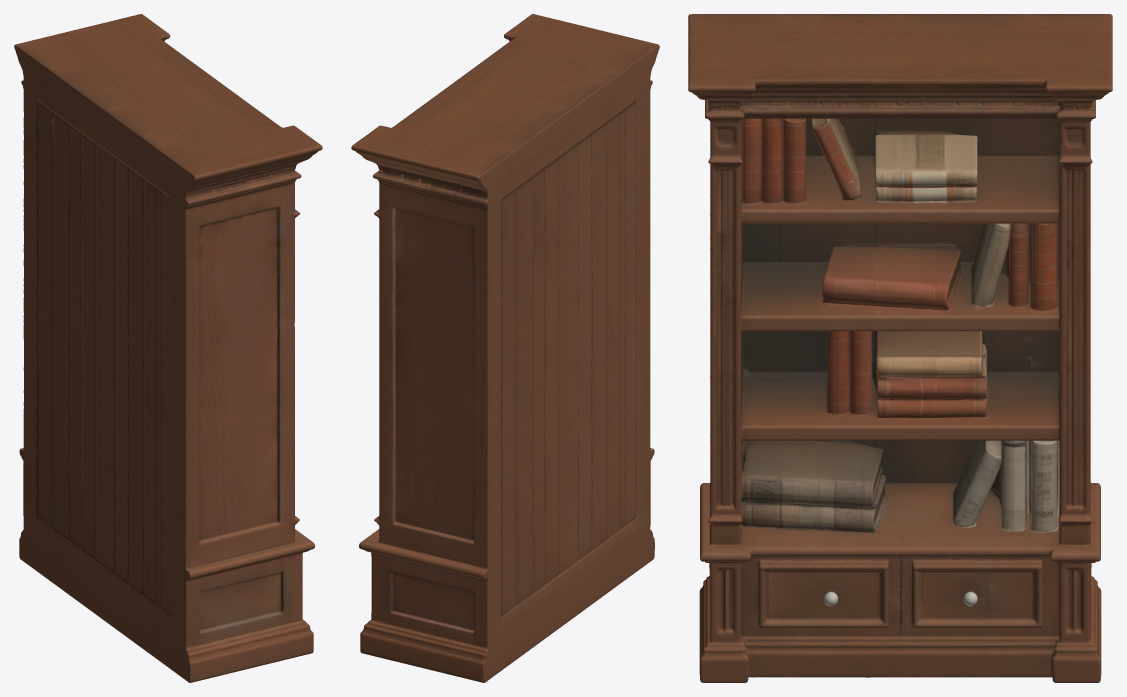
File: detailed_realistic_model_antiquebookshelf_06.glb
3 views of the same model, side by side, from view 1: azimuth 30°, elevation 25°; view 2: azimuth 150°, elevation 25°; view 3: azimuth 270°, elevation 25° (orthographic). The views are drawn at different scales.
Visible parts, largest first — view 1: tripo_node_114b0abc-a08c-446b-9168-2df86e4e3213; view 2: tripo_node_114b0abc-a08c-446b-9168-2df86e4e3213; view 3: tripo_node_114b0abc-a08c-446b-9168-2df86e4e3213.
Boxes of the visible parts, <box> form: tripo_node_114b0abc-a08c-446b-9168-2df86e4e3213: <box>14,14,322,682</box>; tripo_node_114b0abc-a08c-446b-9168-2df86e4e3213: <box>351,14,659,682</box>; tripo_node_114b0abc-a08c-446b-9168-2df86e4e3213: <box>688,14,1112,682</box>.
Bounding box in the file's own units: 0.2628 × 1 × 0.6422.
1 material, 1 textured.
